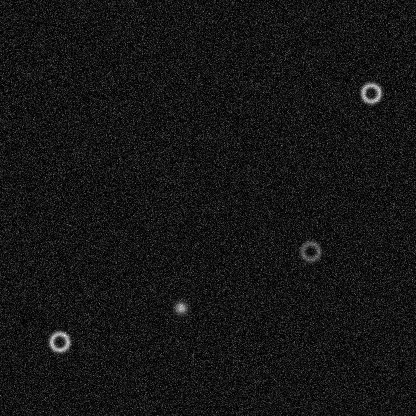Ring: (47, 329, 71, 353), (358, 80, 382, 104), (298, 239, 322, 263)
Spot: (172, 299, 188, 315)
